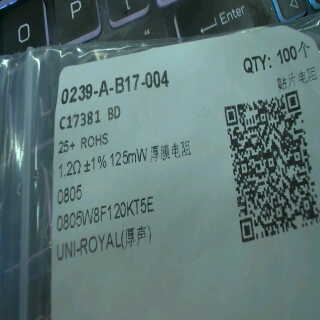1.2R: (55, 160, 81, 206)
